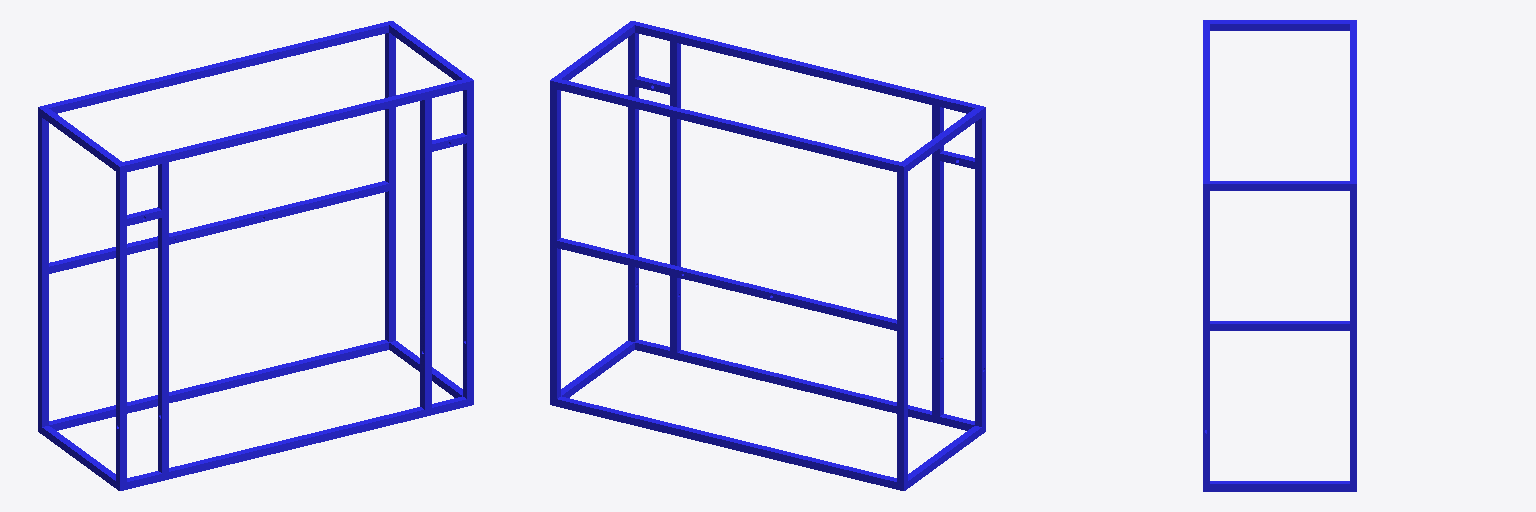
URDF robot description (robot):
<?xml version="1.0" ?>
<!-- =================================================================================== -->
<!-- |    This document was autogenerated by xacro from cloudkat_v1.urdf.xacro         | -->
<!-- |    EDITING THIS FILE BY HAND IS NOT RECOMMENDED                                 | -->
<!-- =================================================================================== -->
<robot name="robot">
  <!-- This is an example of a URDF. -->
  <!-- As we move through the file, new things to note will be pointed out. -->
  <!-- It's not meant an example of GOOD design, but an example of some of the various features of URDF/xacro. -->
  <!-- This file is not a robot in and of itself, it just contains some useful tags that could be included in any robot -->
  <!-- Specify some colours -->
  <material name="white">
    <color rgba="1 1 1 1"/>
  </material>
  <material name="orange">
    <color rgba="1 0.3 0.1 1"/>
  </material>
  <material name="blue">
    <color rgba="0.2 0.2 1 1"/>
  </material>
  <!-- Specify some standard inertial calculations https://en.wikipedia.org/wiki/List_of_moments_of_inertia -->
  <!-- These make use of xacro's mathematical functionality -->
  <!-- This first link called "world" is empty -->
  <link name="world"/>
  <!-- A simple fixed joint from our empty world link, to our base. -->
  <!-- The base origin is offset from the world origin. -->
  <joint name="base_joint" type="fixed">
    <origin rpy="0 0 0" xyz="1.5 1.0 0"/>
    <parent link="world"/>
    <child link="slider_link"/>
  </joint>
  <!-- base_link is a large rectangular plate. Some things to note: -->
  <!-- - We set the visual origin Z to half the box height, so that the link origin sits at the bottom of the box -->
  <!-- - We set the collision to be identical to the visual -->
  <!-- - We specified the colour manually (but still need to enter a name) -->
  <!-- - We specified all the inertial parameters manually -->
  <!-- slider_joint lets slider_link move back and forth along the top of the base in one dimension.  -->
  <!-- - Origin is set to one of the top edges of the base_link box, so that our link skims across the top  -->
  <!-- - It moves along the X axis -->
  <!-- - We need to specify limits for the motion -->
  <!-- slider_link is the box skimming across the top of the base. Its parameters are similar to the base_link, however: -->
  <!-- - Instead of explicitly describing a colour, it uses the named material "blue". It knows about "blue" that material was included in example_include.xacro. -->
  <!-- - Instead of explicitly describing the inertia, we use a macro that was defined in the example_include.xacro -->
  <link name="slider_link">
    <visual>
      <origin rpy="0 0 0" xyz="0 0 0"/>
      <geometry>
        <mesh filename="package://stormfield/description/meshes/stl/Frame_1000.stl"/>
      </geometry>
      <material name="blue"/>
    </visual>
    <collision>
      <origin rpy="0 0 0" xyz="0 0 0"/>
      <geometry>
        <mesh filename="package://stormfield/description/meshes/stl/Frame_1000.stl"/>
      </geometry>
    </collision>
    <inertial>
      <origin rpy="0 0 0" xyz="0 0 0.075"/>
      <mass value="0.5"/>
      <inertia ixx="0.003541666666666666" ixy="0.0" ixz="0.0" iyy="0.011354166666666667" iyz="0.0" izz="0.013020833333333332"/>
    </inertial>
  </link>
  <!-- arm_joint describes the rotation of the arm and is centred around the top corner of the slider box. -->
  <!-- - The axis of rotation is -1 in Y, so that positive is "up" -->
  <!-- - The upper limit uses xacro's mathematical features -->
</robot>

--- Render facts (derived) ---
The picture shows the robot from 3 angles, left to right: view 1: azimuth 30°, elevation 25°; view 2: azimuth 150°, elevation 25°; view 3: azimuth 270°, elevation 25°; orthographic projection.
Robot: robot — 2 links, 1 joints (1 fixed); root link world; default pose: all joints at 0.
Visible links, largest first — view 1: slider_link; view 2: slider_link; view 3: slider_link.
Link boxes in pixels (x1,y1,x2,y2): slider_link: (38,21,473,490); slider_link: (550,21,985,490); slider_link: (1203,20,1356,491).
Size in the robot's own frame: 2 by 0.8 by 1.75 metres.
1 mesh visuals loaded from 1 distinct referenced files (1 binary STL).